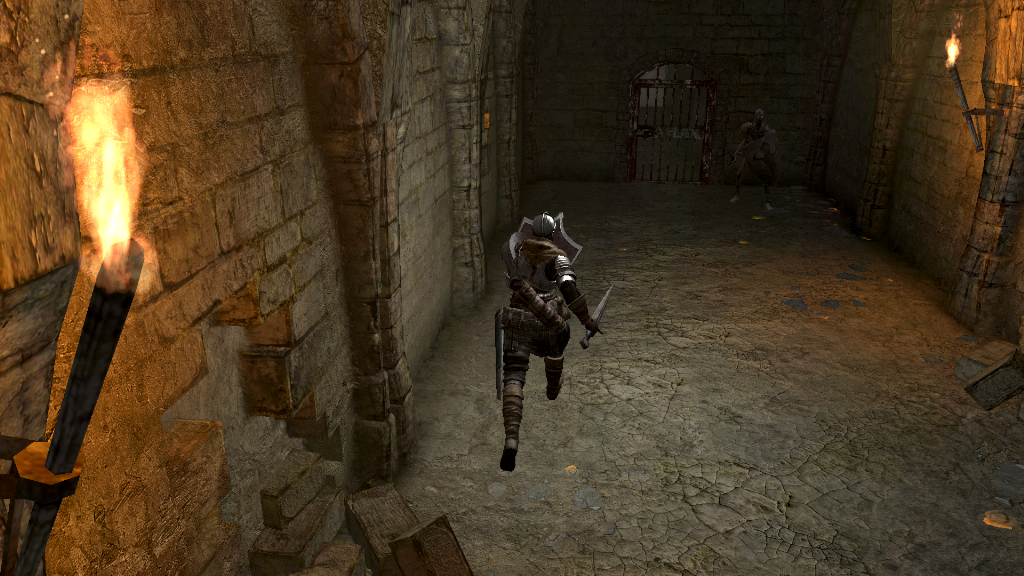player: (496, 209, 617, 469)
undeadSoldier: (728, 109, 778, 211)
